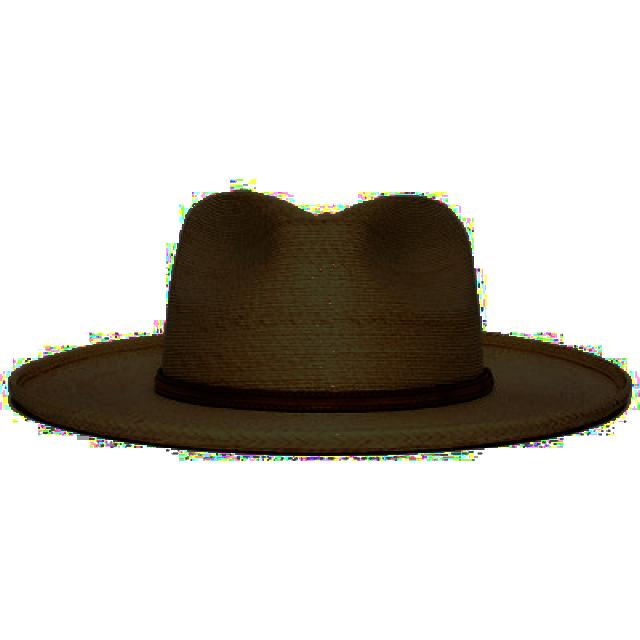TOPI: (5, 187, 635, 458)
